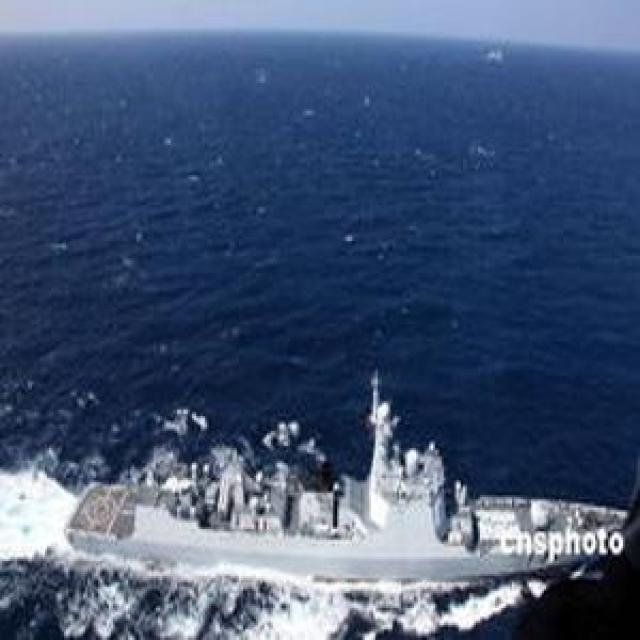navalvessels: (71, 383, 617, 593)
